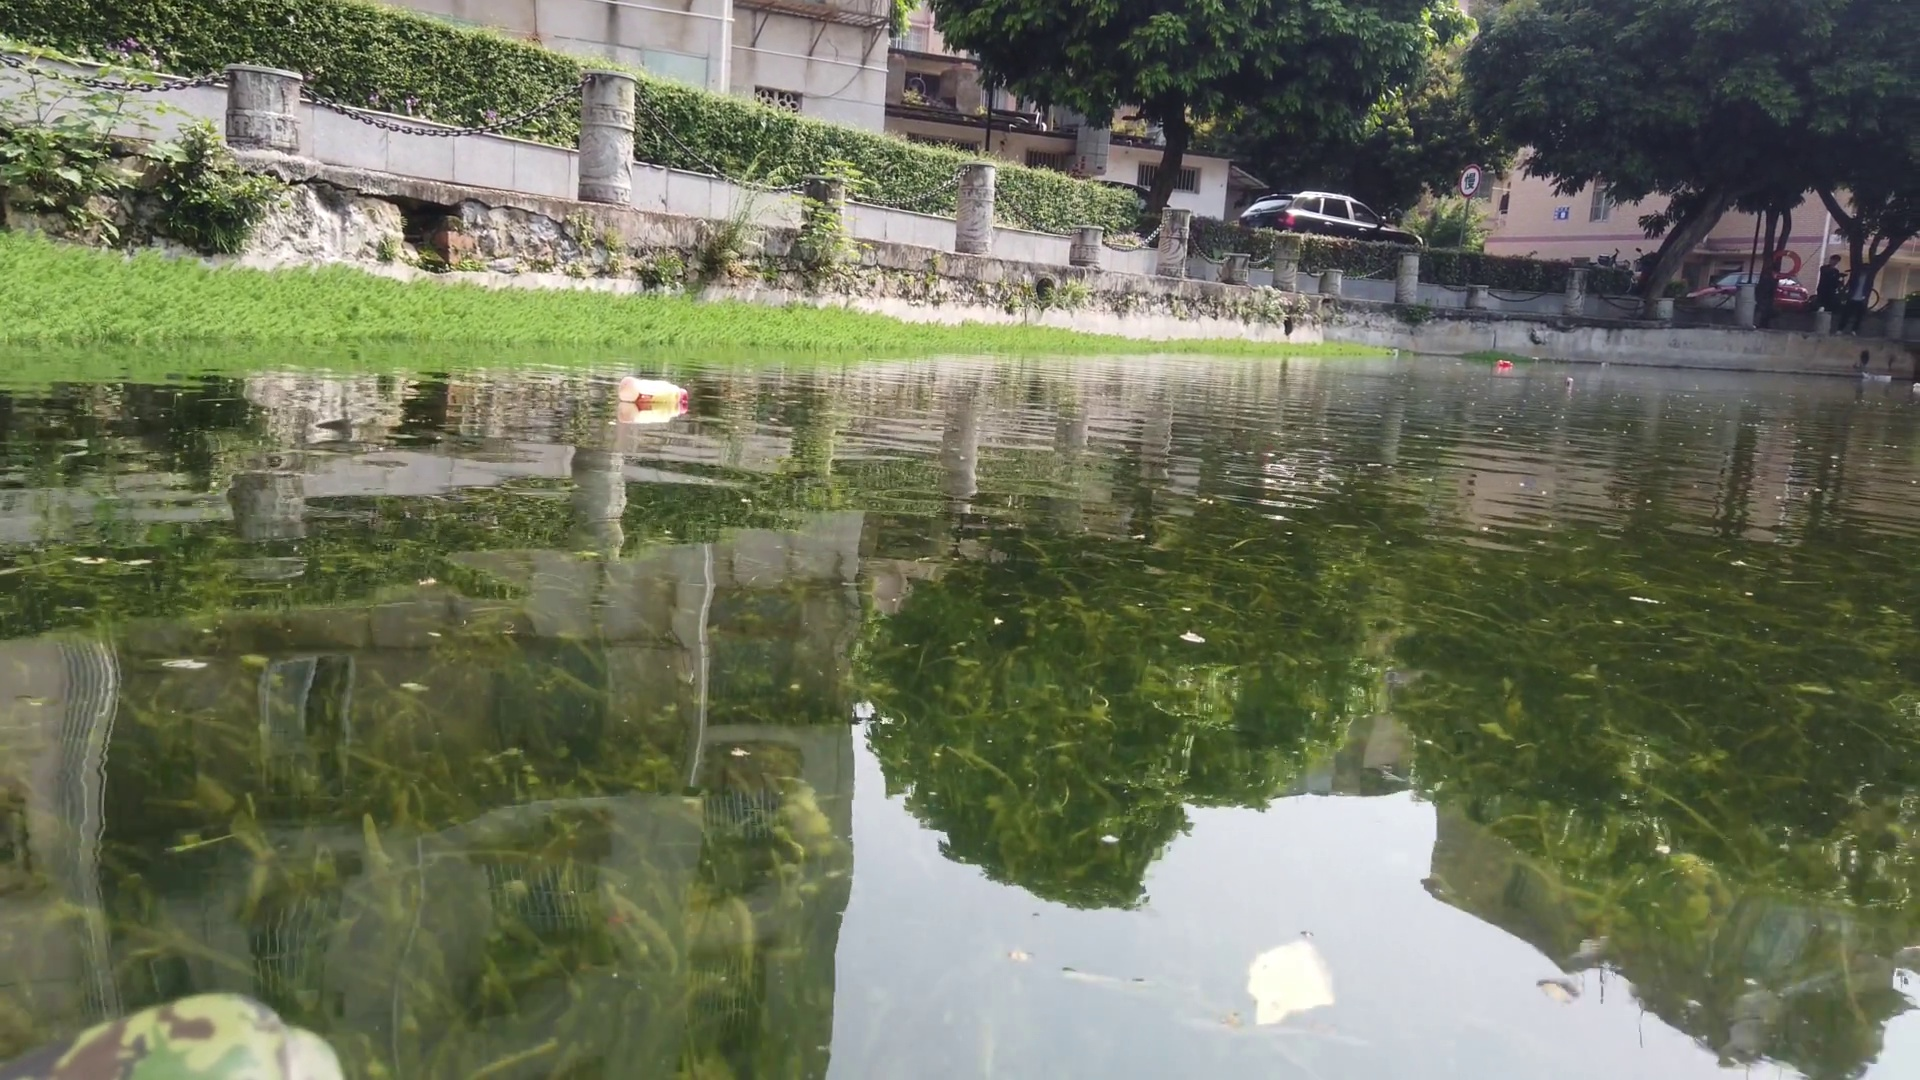bottle: (615, 375, 694, 407), (1494, 357, 1516, 371), (1564, 375, 1578, 388), (1909, 378, 1919, 389)
carton: (1873, 373, 1898, 385), (1862, 369, 1873, 380)
